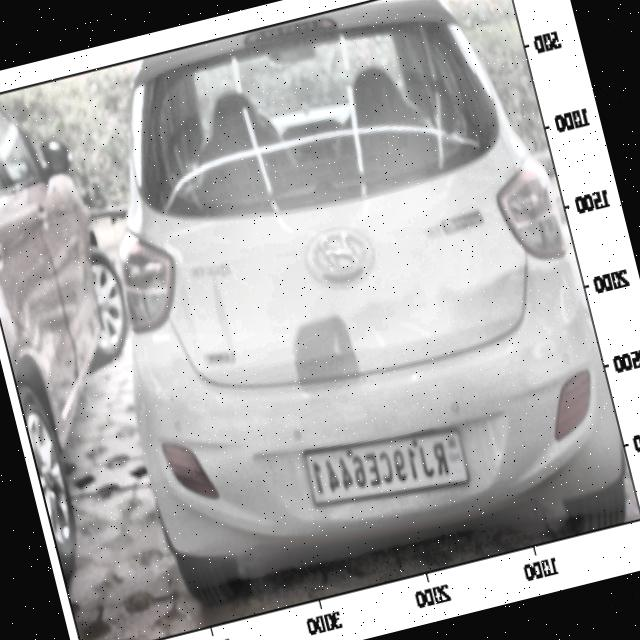license_plate: (302, 422, 463, 514)
